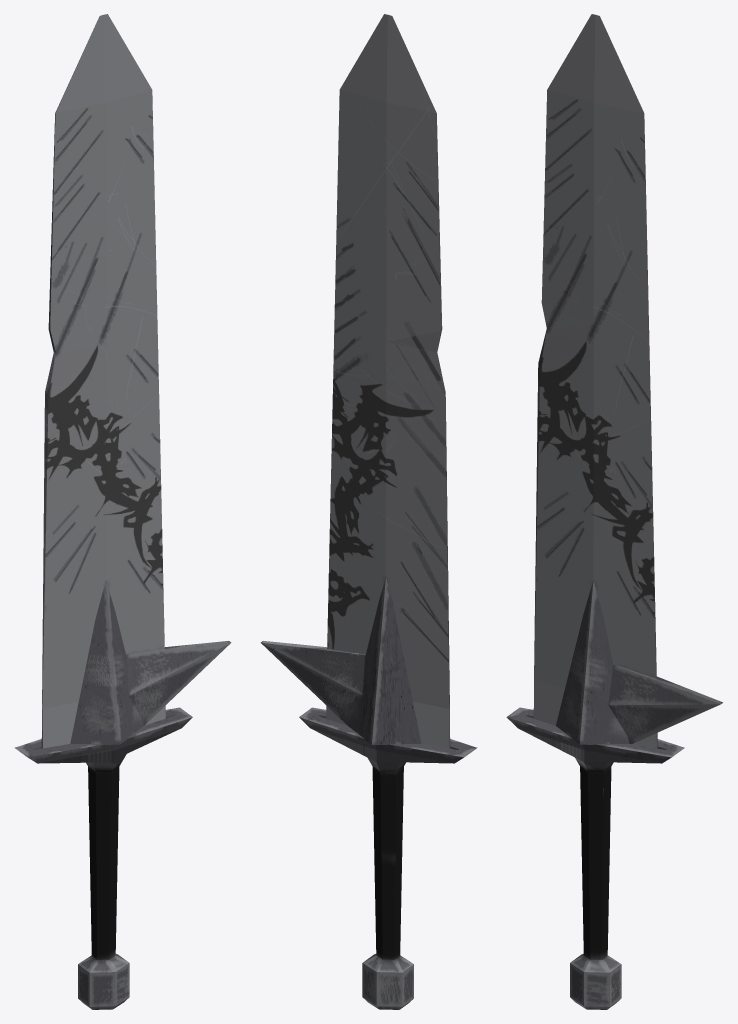
Rendered from lower_orc_great_sword.glb.
3 renders of one model, left to right at view 1: azimuth 30°, elevation 25°; view 2: azimuth 150°, elevation 25°; view 3: azimuth 330°, elevation 25°, orthographic.
Visible parts, largest first — view 1: SwordLP; view 2: SwordLP; view 3: SwordLP.
Boxes of the visible parts, box(x1,y1,x2,y2) form: SwordLP: box(14, 14, 231, 1009); SwordLP: box(260, 14, 477, 1009); SwordLP: box(506, 14, 722, 1009).
Size of the model in its own units: 0.4433 by 2 by 0.1187.
Materials: 1 (1 with a texture image).
